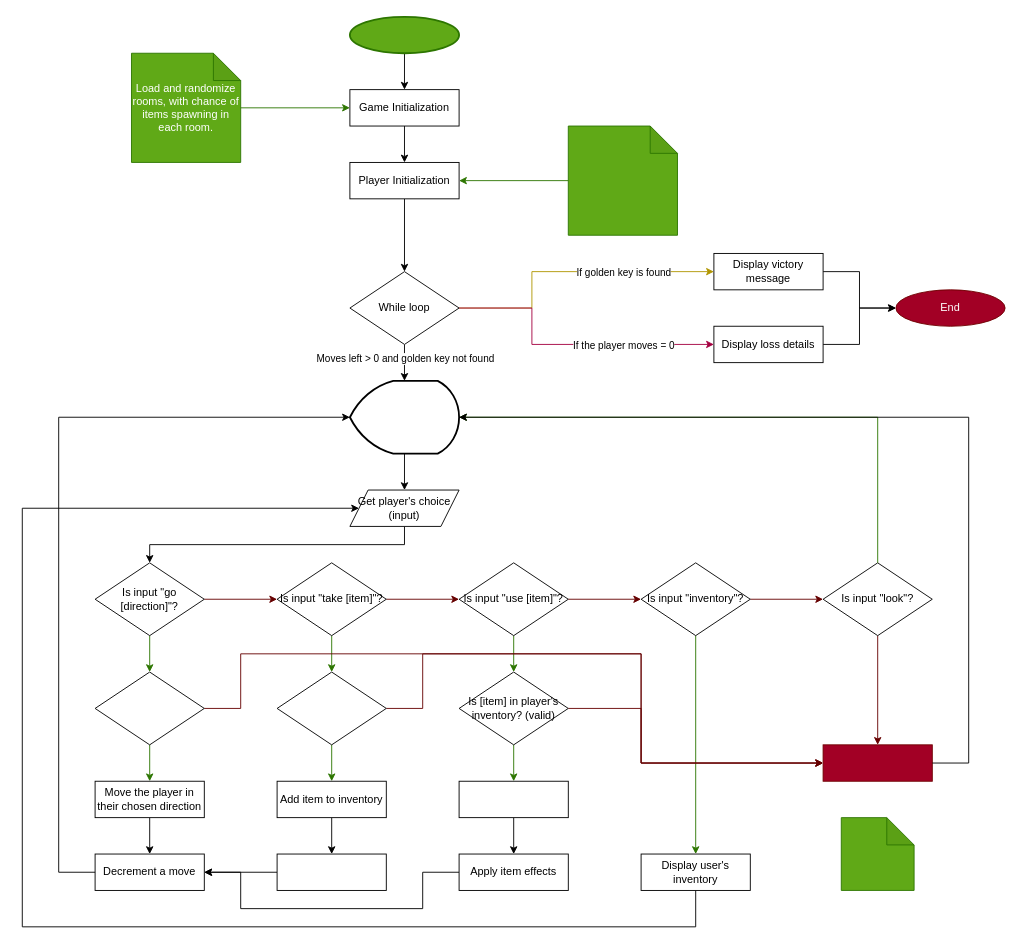
Image size: 1021x950. Some labels were removed from this diagram. Here are the shapes that lost their labels. From the top down, the centre of each, then its label:
At (404,34): "Start".
At (622,180): "Set the player's start location, a set number of moves, and an empty inventory.".
At (404,416): "Display the player's room and surroundings, display their choices".
At (149,708): "Is direction valid?".
At (331,708): "Is [item] in the room? (valid)".
At (877,762): "Invalid input".
At (513,799): "Remove item from inventory".
At (331,871): "Remove item from room".
At (877,853): "Green = Yes Red = No".
